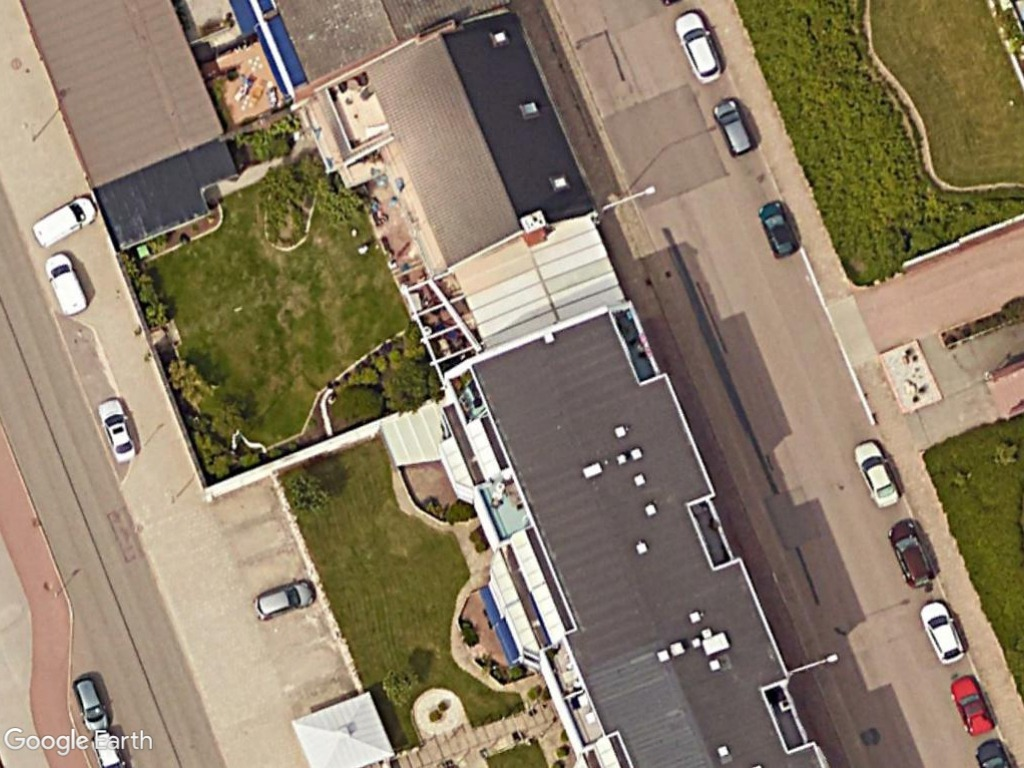car: (669, 11, 727, 87), (884, 517, 940, 591), (851, 435, 904, 512), (917, 596, 970, 669), (945, 673, 998, 742), (95, 394, 144, 466), (249, 575, 320, 624), (753, 196, 802, 261), (70, 670, 114, 735), (712, 94, 754, 157)
van: (29, 191, 100, 251), (42, 249, 91, 319)
